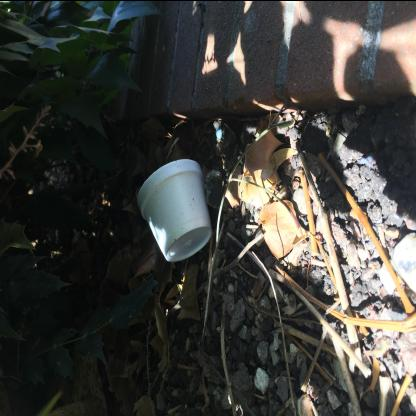kopuk: (137, 157, 212, 262)
